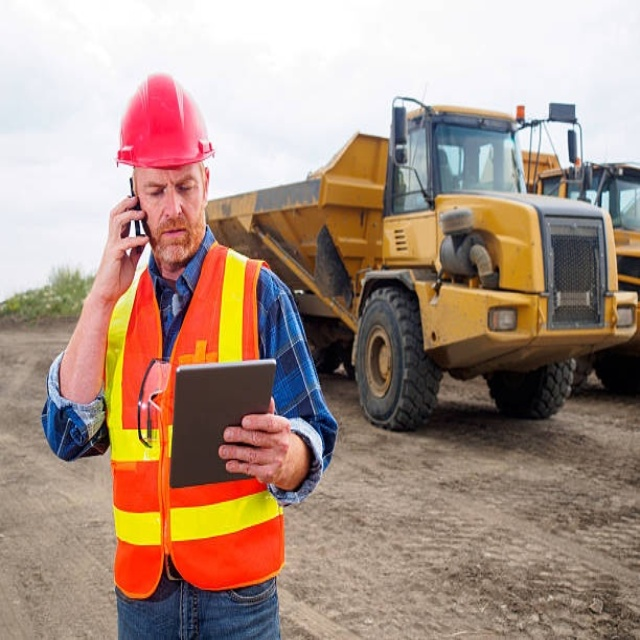Sin_gafas: (140, 172, 197, 204)
Sin_guantes: (219, 401, 297, 489), (93, 192, 146, 301)
Sin_mascara: (156, 220, 191, 255)
